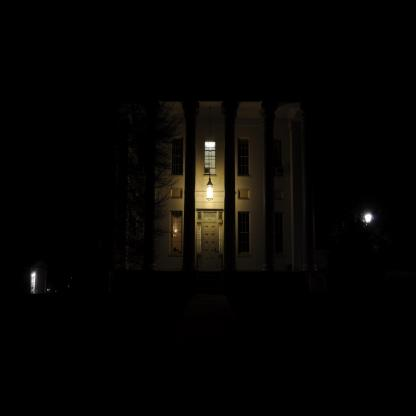other: (202, 179, 215, 207)
